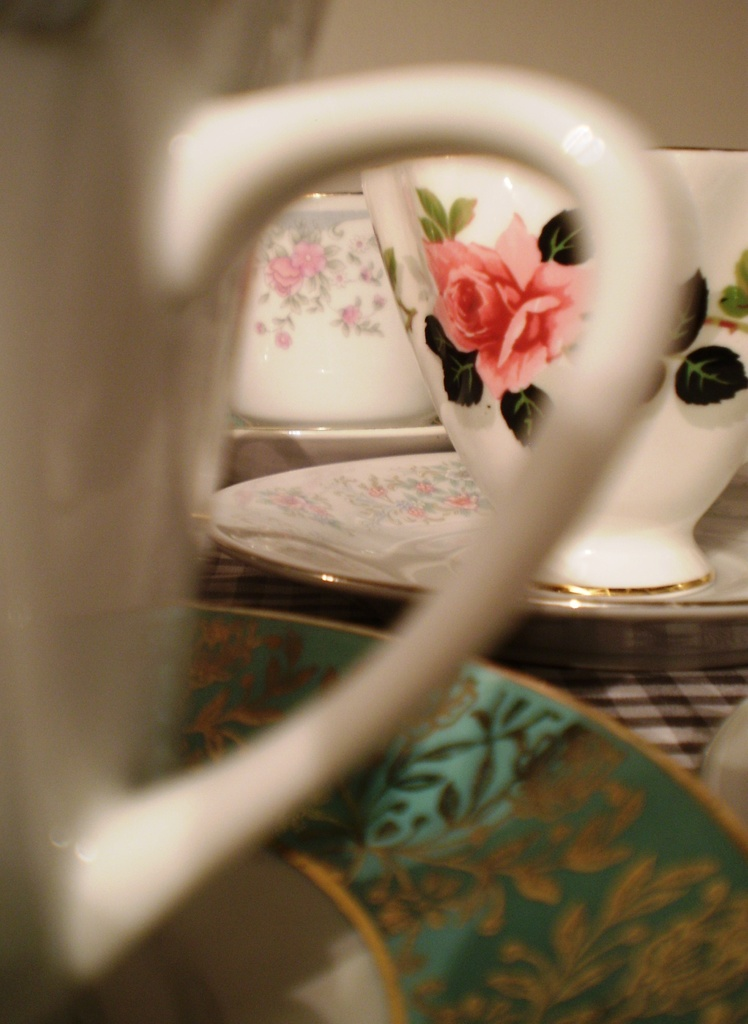plate: (138, 113, 739, 704)
